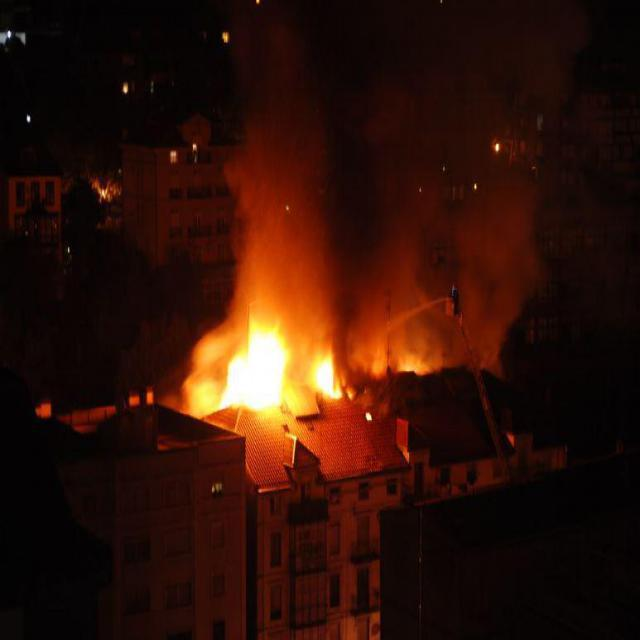Fire: (203, 314, 290, 416), (348, 336, 430, 374), (310, 346, 344, 402)
